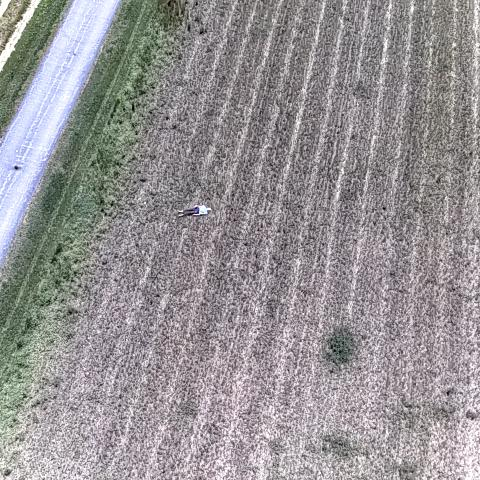person: (174, 203, 214, 221)
